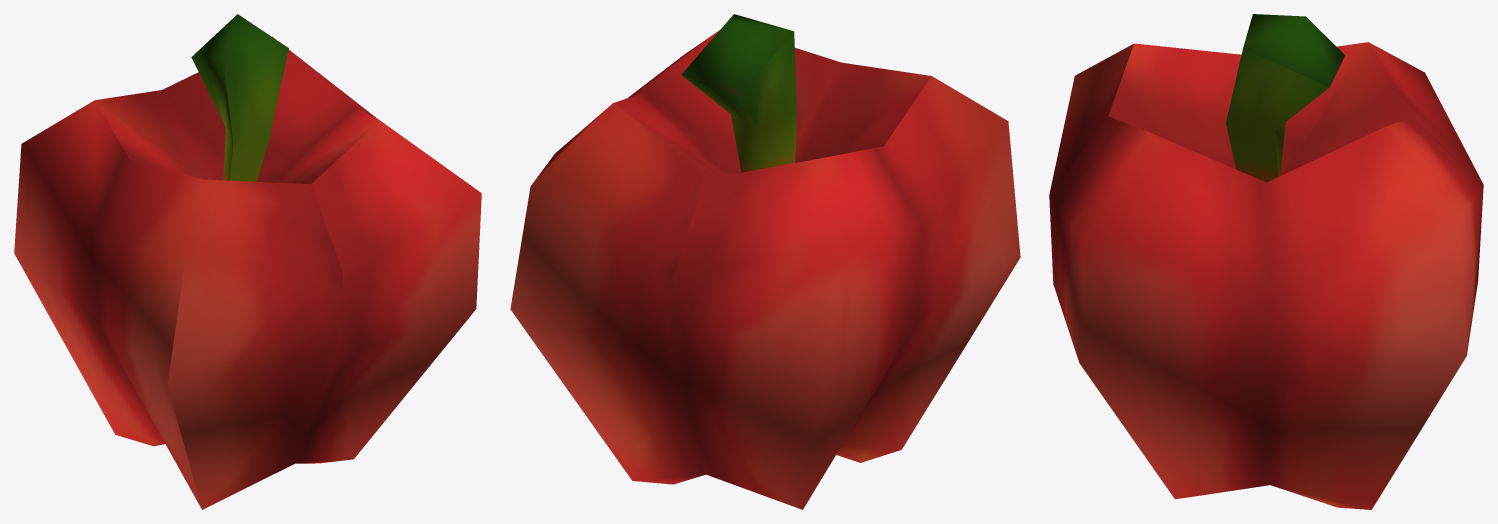
File: SM_PROP_food_bellpepper.FBX
The picture shows the model from 3 angles, left to right: view 1: azimuth 30°, elevation 25°; view 2: azimuth 150°, elevation 25°; view 3: azimuth 270°, elevation 25°; orthographic projection. The views are drawn at different scales.
Parts seen in each view (by area): view 1: SM_PROP_food_bellpepper; view 2: SM_PROP_food_bellpepper; view 3: SM_PROP_food_bellpepper.
Boxes of the visible parts, x1,y1,x2,y2 form: SM_PROP_food_bellpepper: [14, 14, 481, 509]; SM_PROP_food_bellpepper: [510, 14, 1020, 509]; SM_PROP_food_bellpepper: [1049, 14, 1483, 509].
Size of the model in its own units: 15.66 by 15.54 by 18.67.
